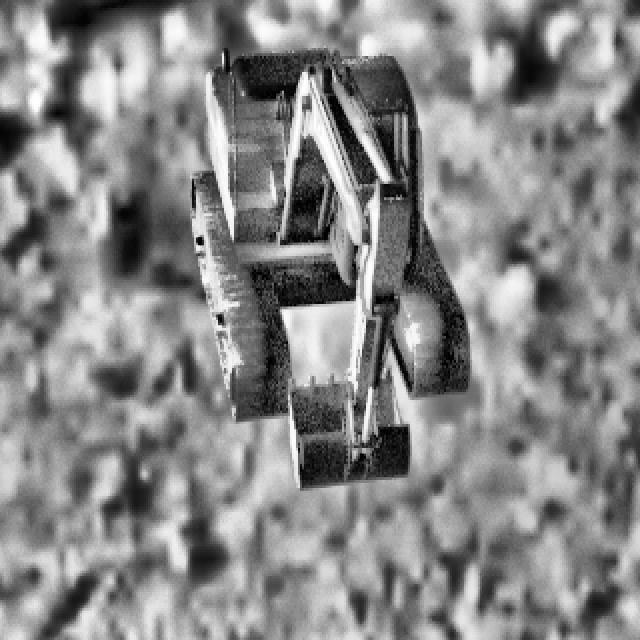excavator: (188, 45, 470, 488)
